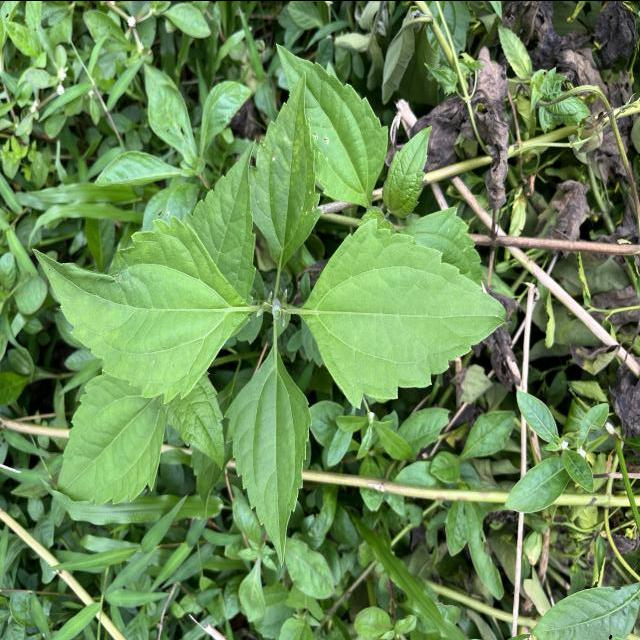Chromolaena odorata: (28, 210, 253, 407), (299, 213, 514, 413), (221, 344, 316, 570)
